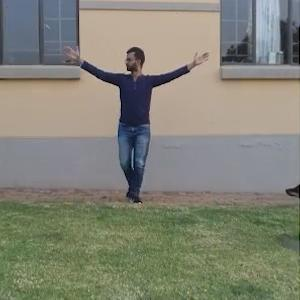takeoff: (41, 33, 198, 211)
